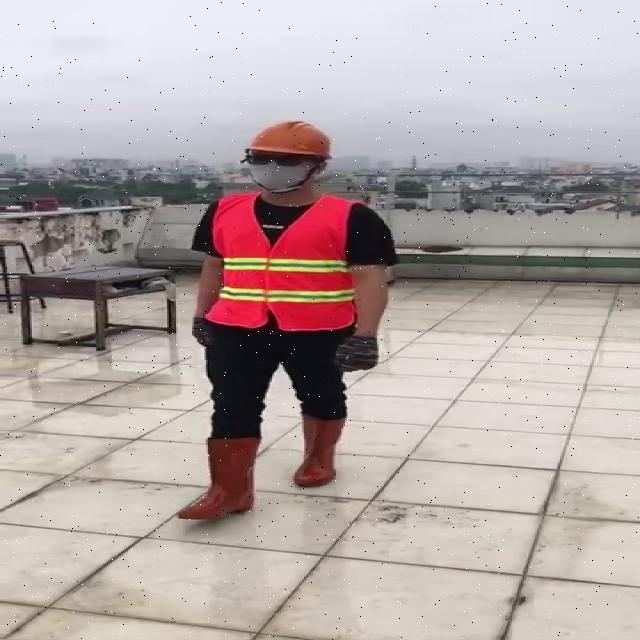Hard_hat: (239, 117, 338, 167)
Person: (185, 119, 409, 517)
Vest: (212, 191, 359, 336)
